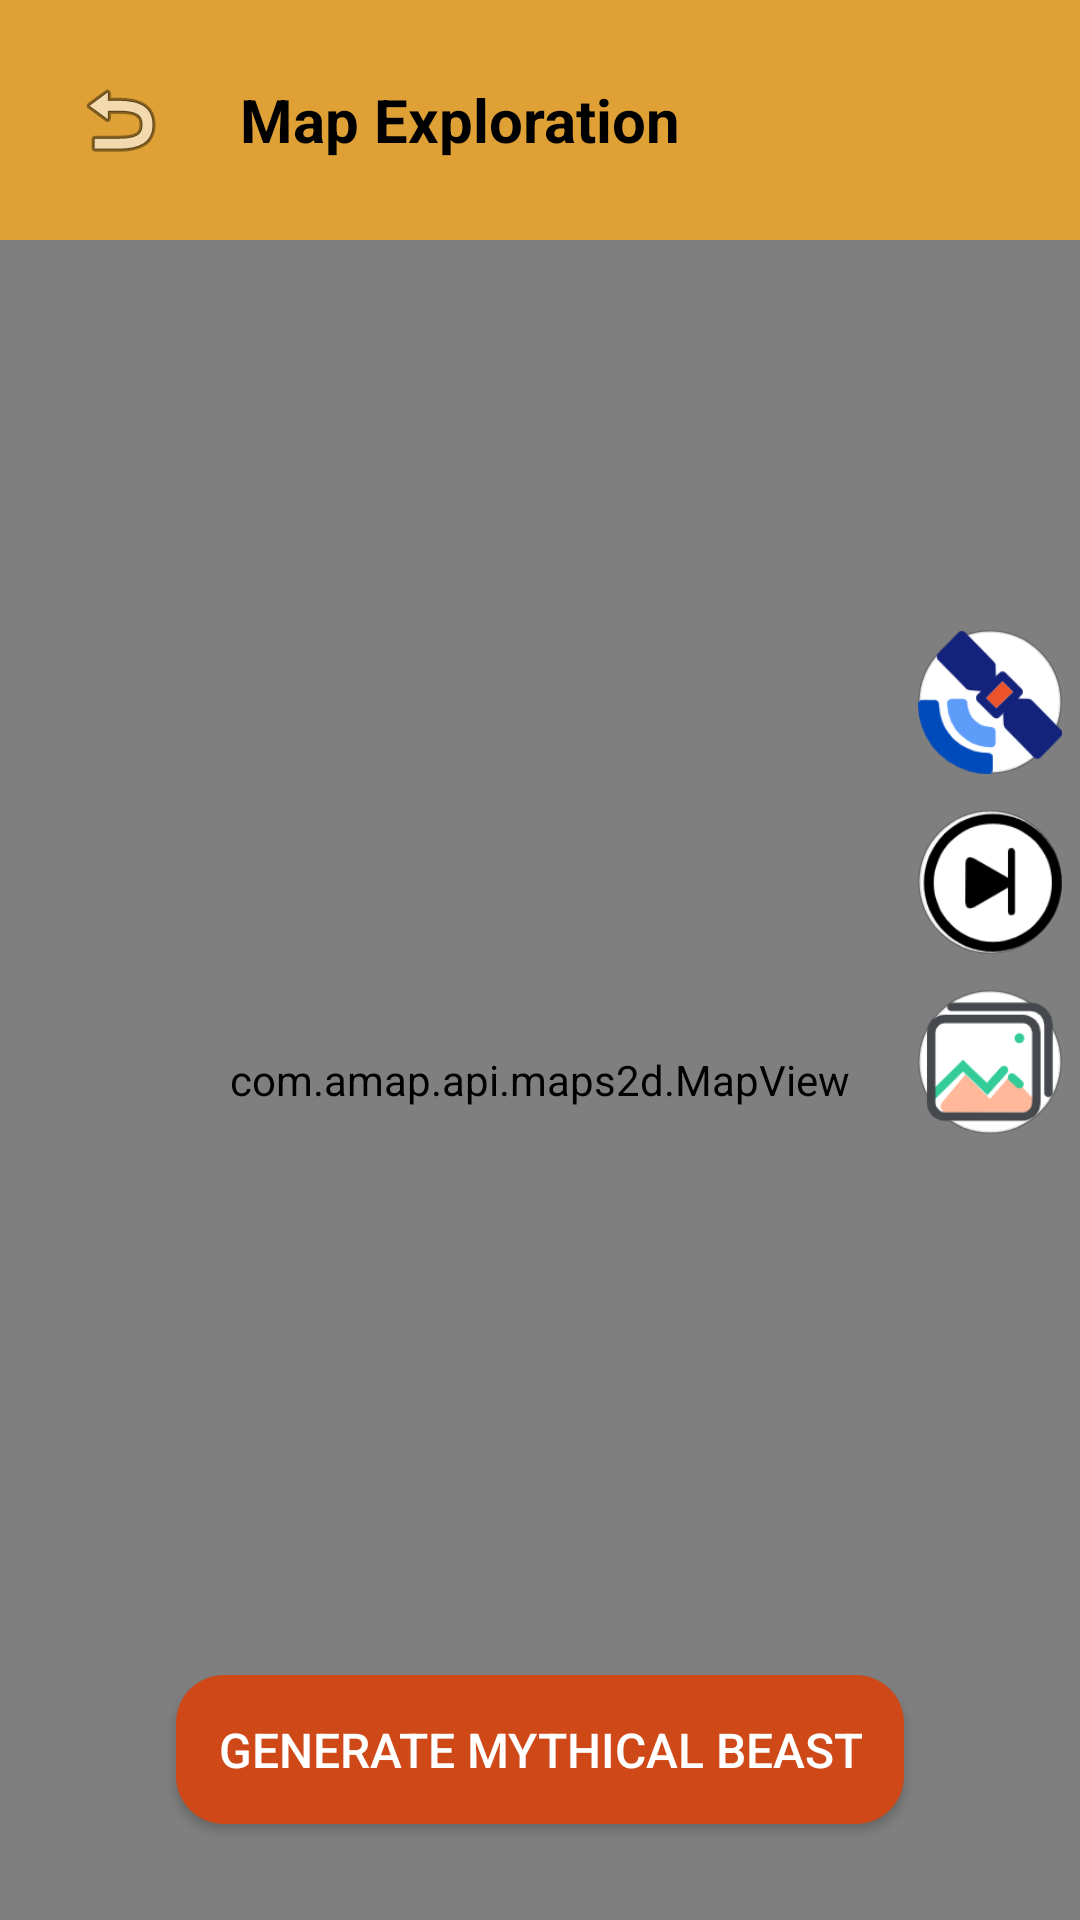

Icons on this 1080 x 1920 Android screen, each with the point to tap as (x,y):
back: (121,120)
Toggle satellite map: (990,702)
View Captured Photos: (990,1062)
